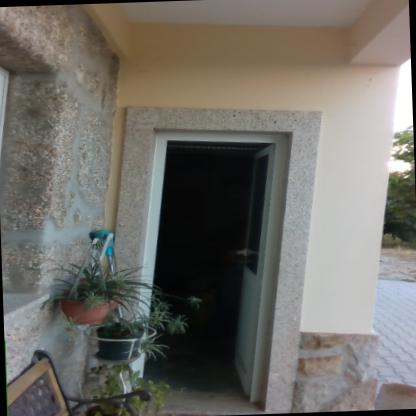open: (121, 119, 316, 410)
